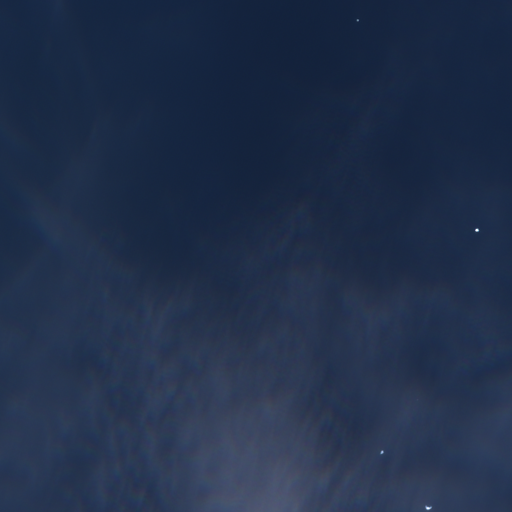Iceberg: (425, 505, 431, 509), (475, 228, 479, 231), (380, 450, 383, 453), (356, 19, 358, 21)
